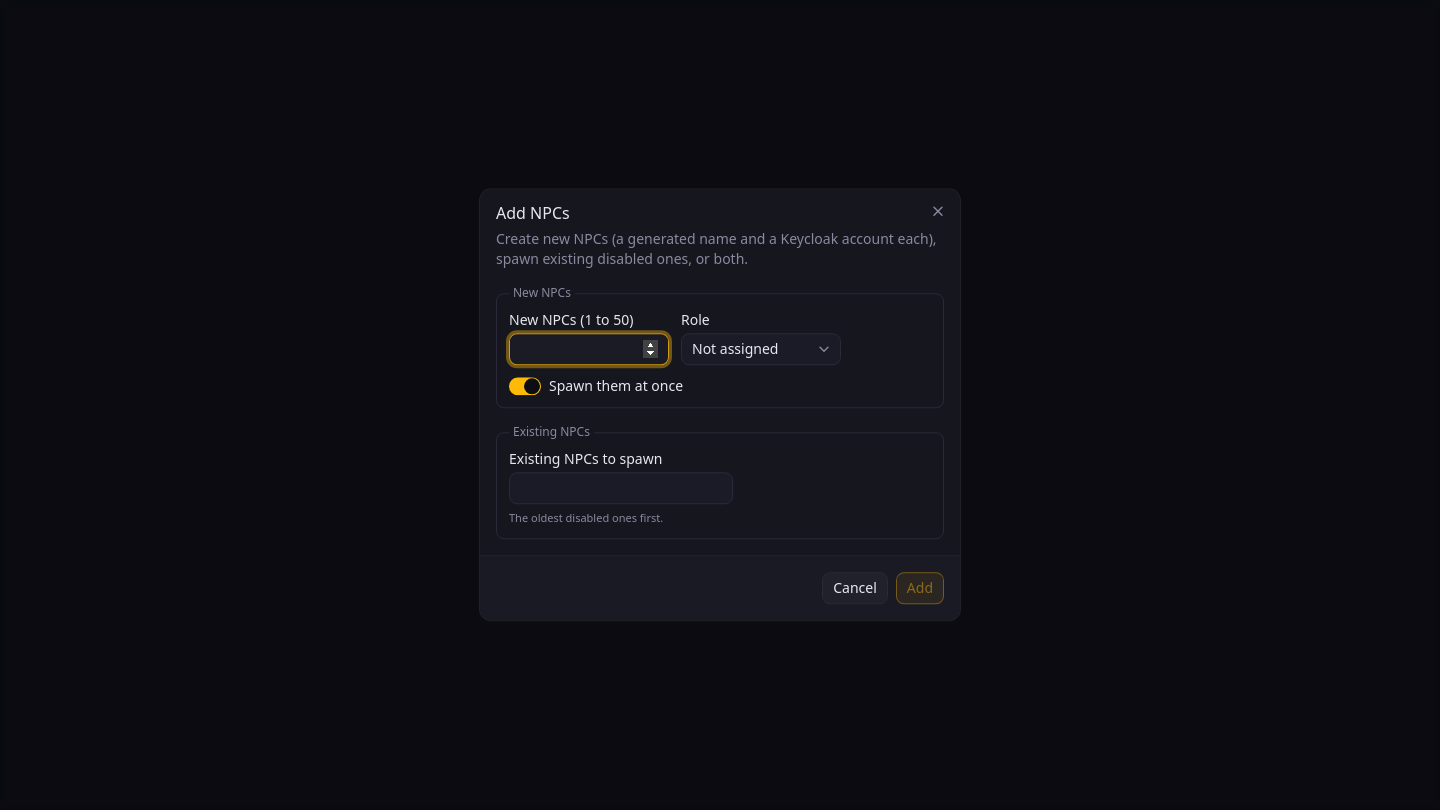
it: NpcAddDialog › refuses more than 50 new NPCs at once
The width and height of the screenshot is (1440, 810).
In the number field labelled "New NPCs (1 to 50)": point(589, 349) x1=509 y1=333 x2=669 y2=365, type "51"
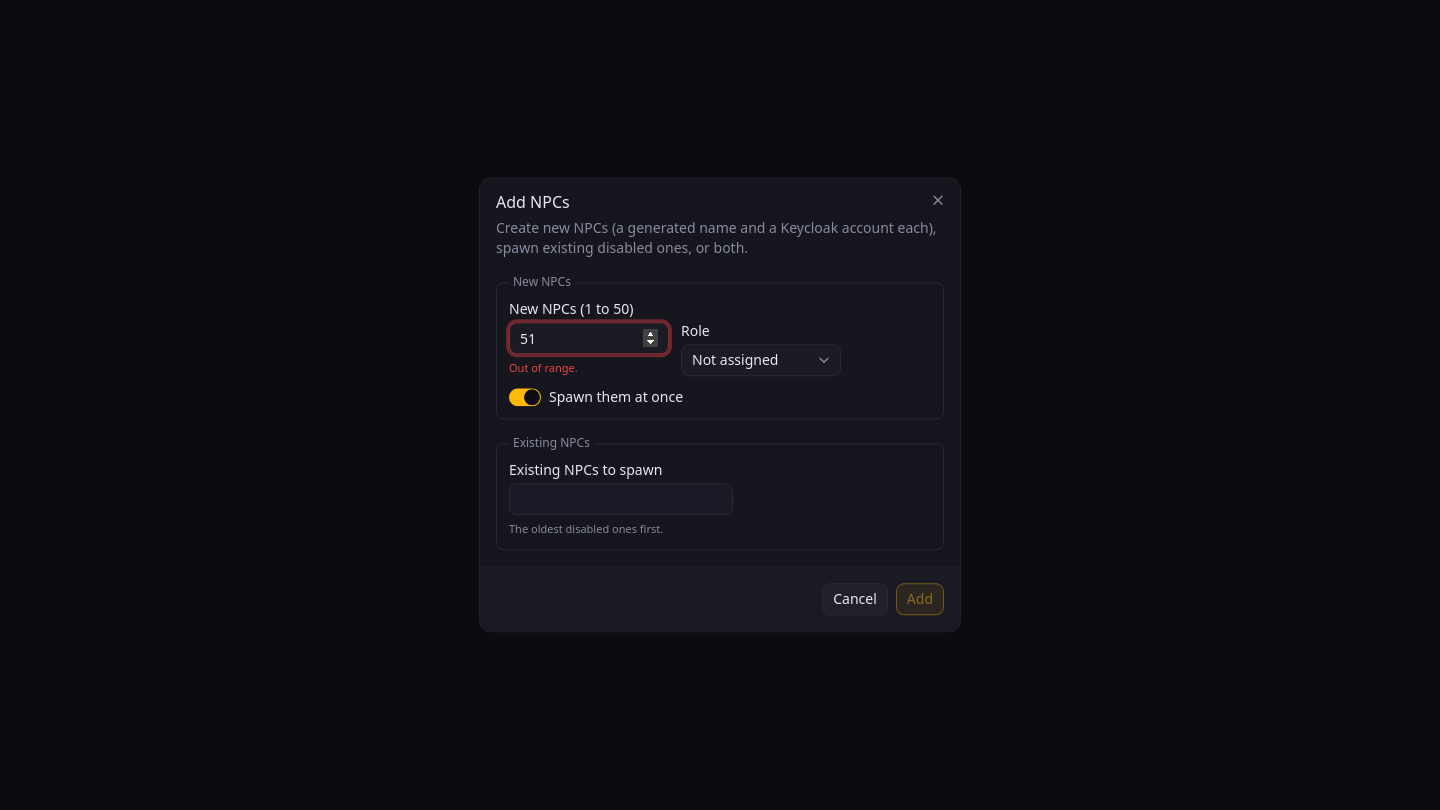
Expected: the button "Add" is disabled, x1=896 y1=584 x2=944 y2=616
Now the text "Out of range." is shown, box x1=509 y1=360 x2=578 y2=375
